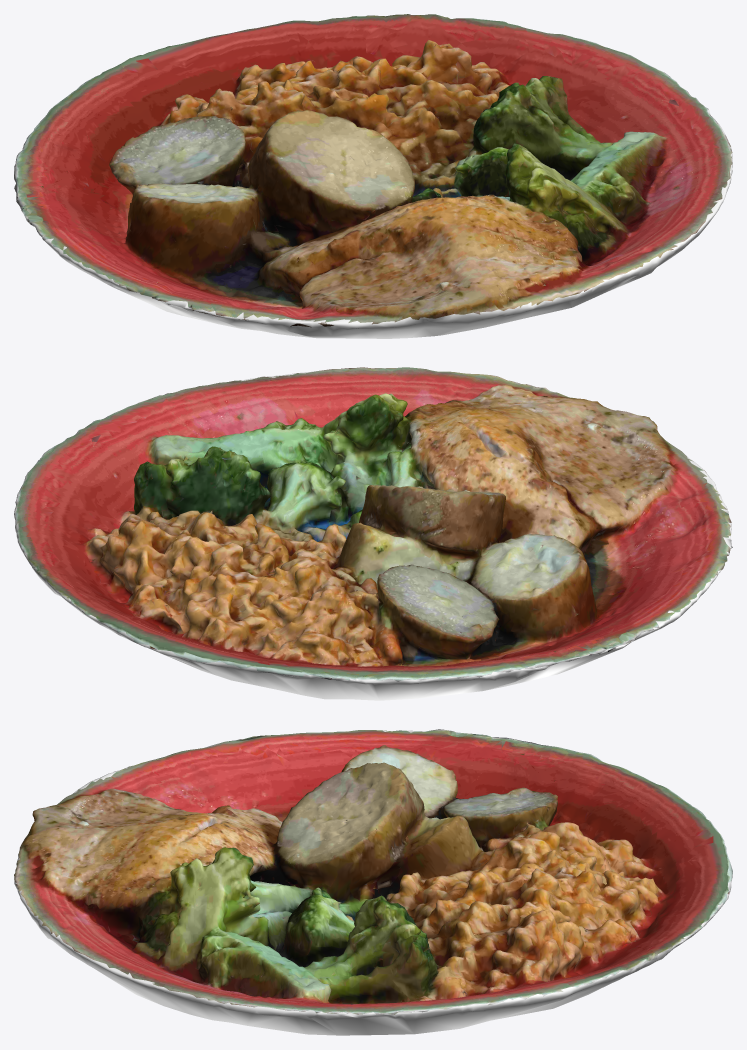
The model's file is salmon.glb.
3 views of the same model, one above another, from view 1: azimuth 30°, elevation 25°; view 2: azimuth 150°, elevation 25°; view 3: azimuth 270°, elevation 25° (orthographic).
Parts seen in each view (by area): view 1: Salmon; view 2: Salmon; view 3: Salmon.
Boxes of the visible parts, <box> form: Salmon: <box>14,14,732,338</box>; Salmon: <box>14,367,732,700</box>; Salmon: <box>14,729,732,1035</box>.
Size of the model in its own units: 32.34 by 5.85 by 32.52.
4 materials, 3 textured.
